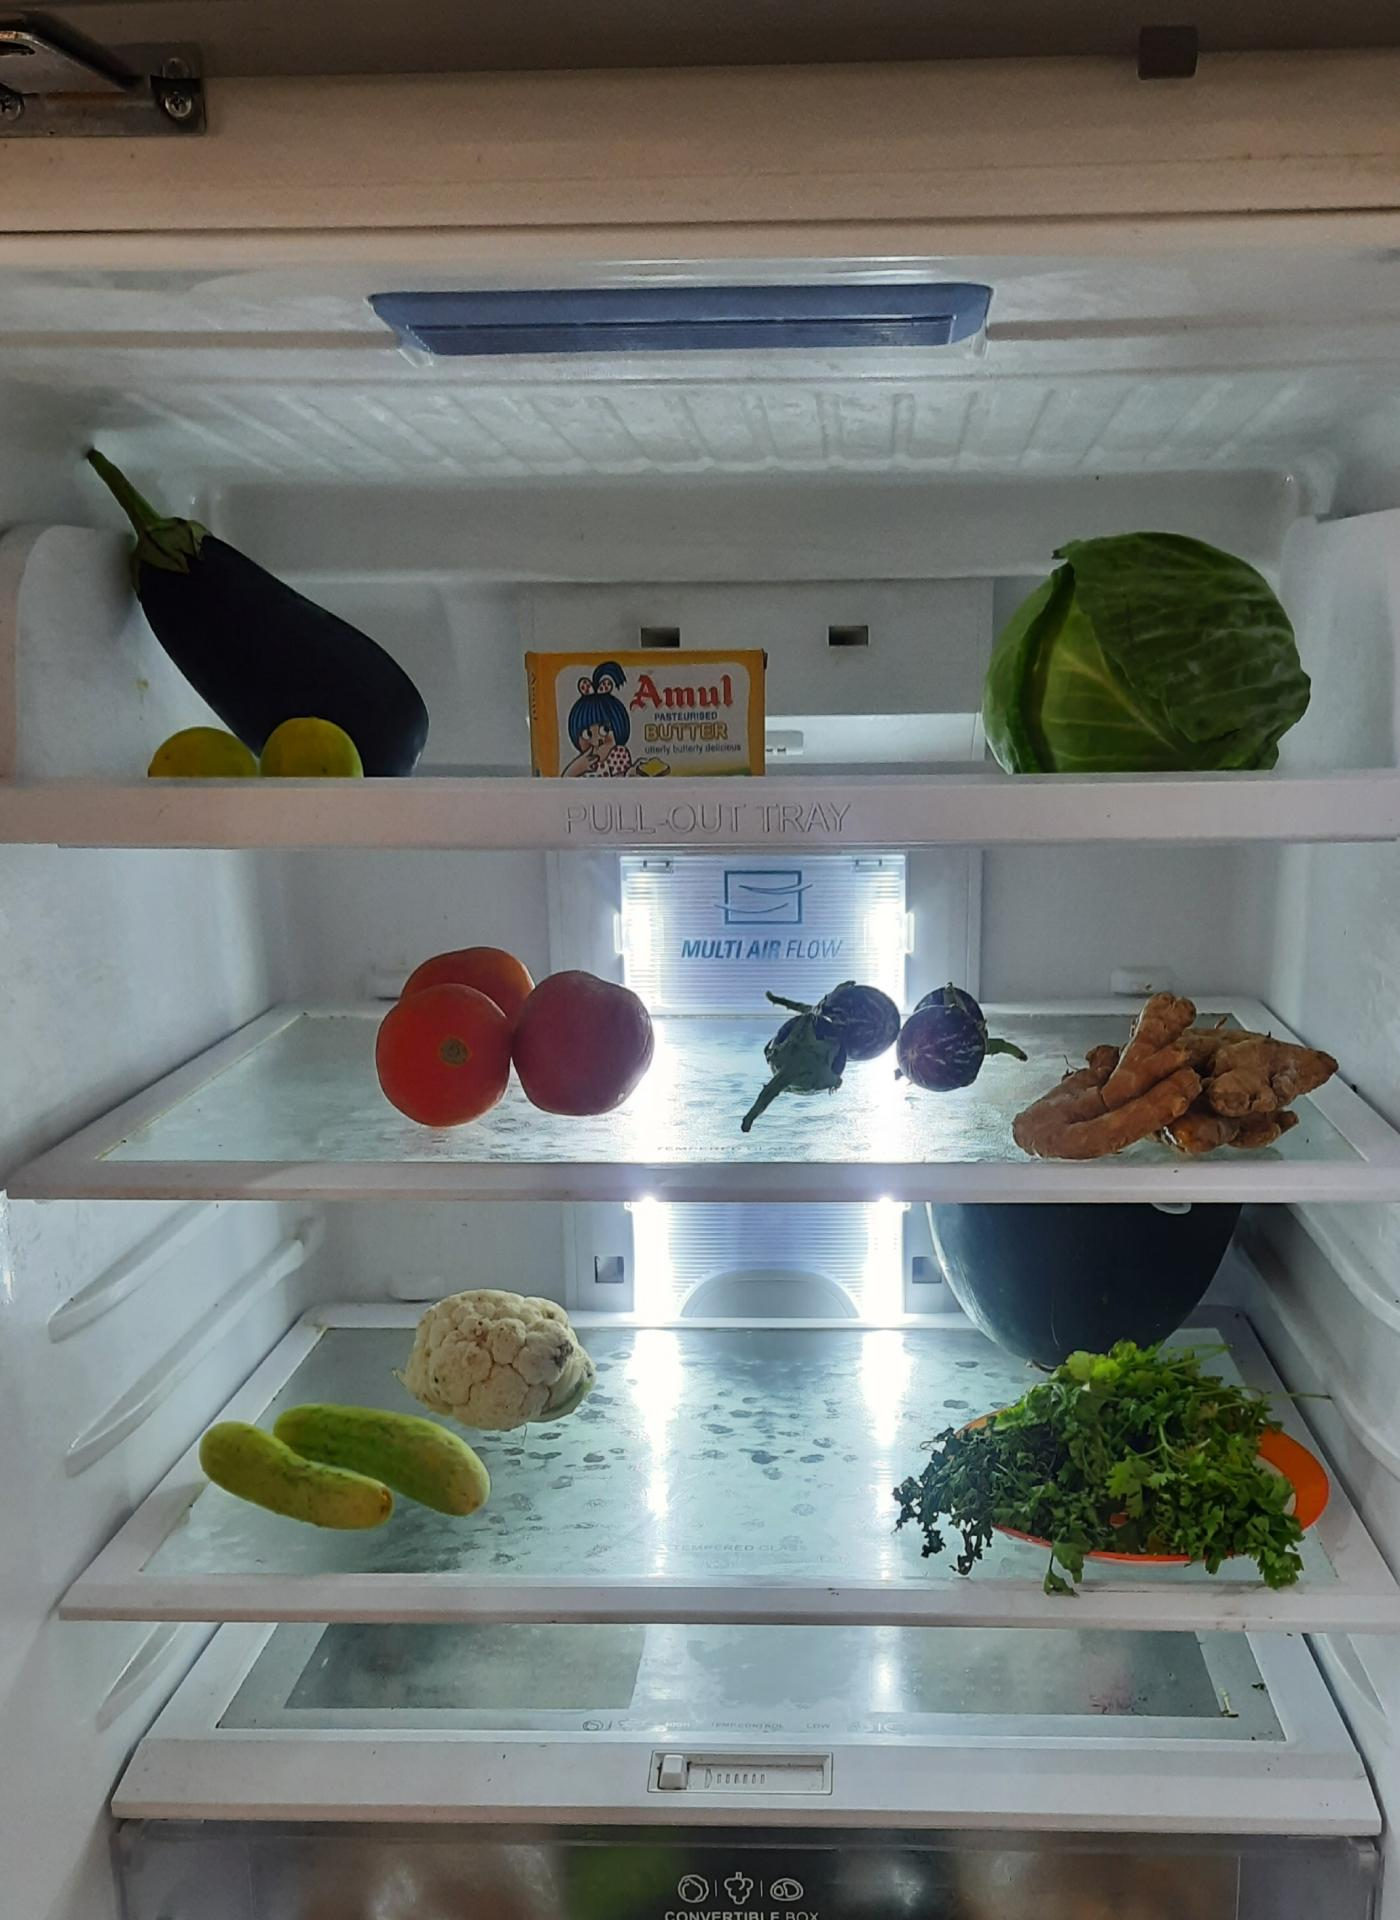brinjal: (69, 435, 441, 778), (745, 967, 1032, 1103)
butter: (531, 642, 765, 780)
cabbage: (978, 525, 1318, 769)
cauliflower: (398, 1285, 595, 1431)
coriander: (892, 1349, 1314, 1580)
cucumber: (186, 1403, 495, 1544)
ginger: (1020, 987, 1336, 1154)
tomato: (376, 938, 658, 1124)
watermelon: (920, 1201, 1254, 1362)
